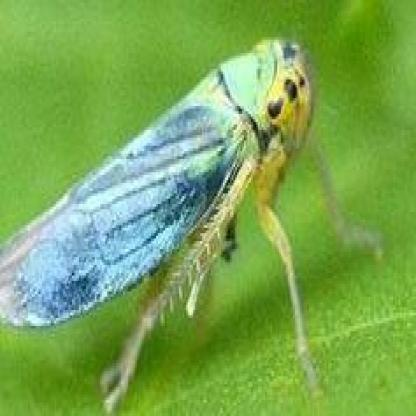Green-Leafhopper: (0, 33, 385, 416)
